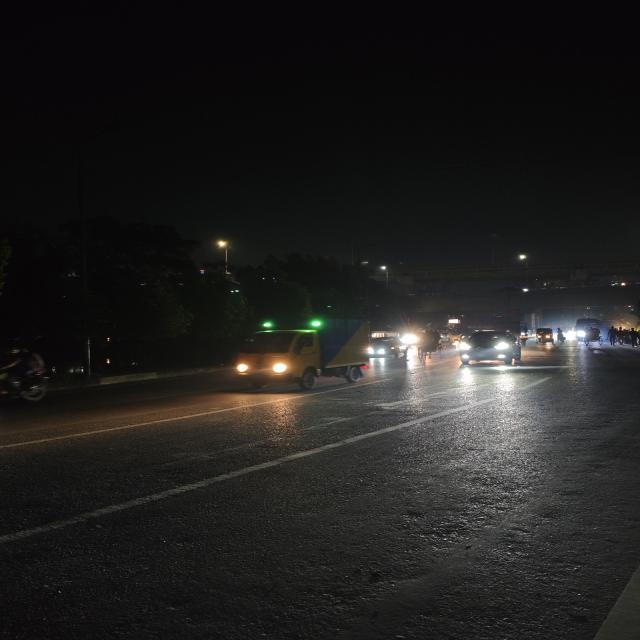bus: (572, 316, 601, 343)
car: (453, 328, 528, 372)
cng: (536, 326, 555, 346)
motorcycle: (555, 329, 567, 345)
pedestrian: (606, 324, 623, 348)
rickshaw: (410, 332, 452, 363)
truck: (225, 320, 372, 396)
